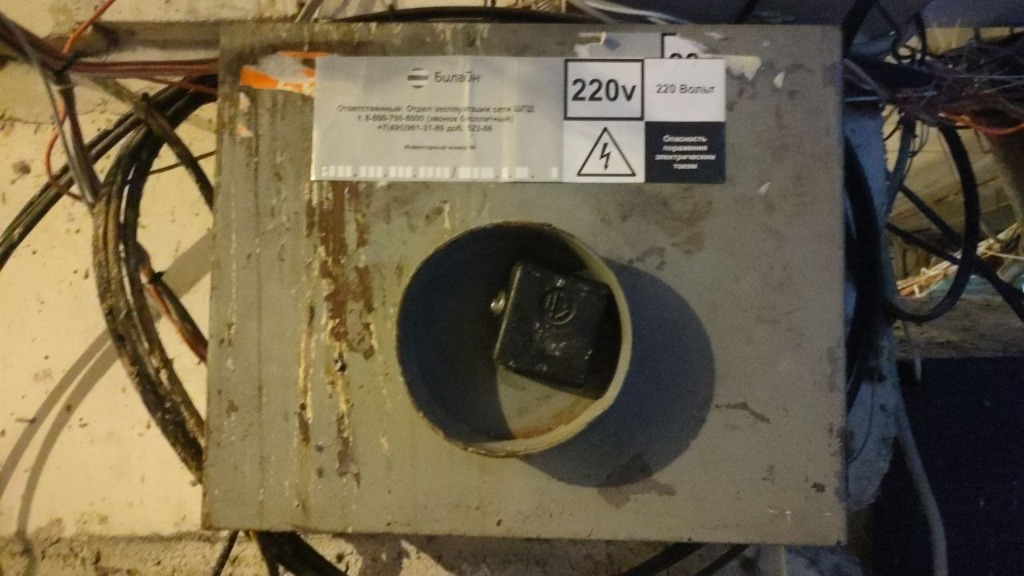shta-3: (195, 16, 849, 553)
